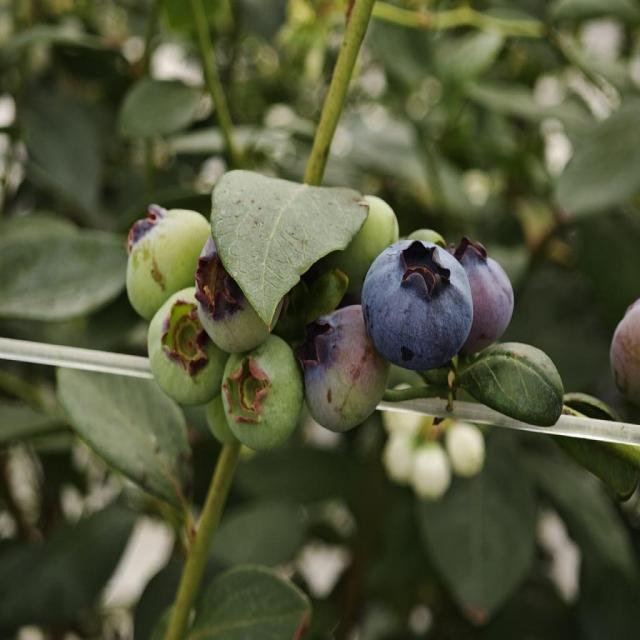RipeBlueBerry: (362, 237, 474, 372)
Semi-RipeBlueBerry: (301, 301, 392, 435)
UnripeBlueBerry: (125, 204, 212, 320), (219, 334, 303, 454)
